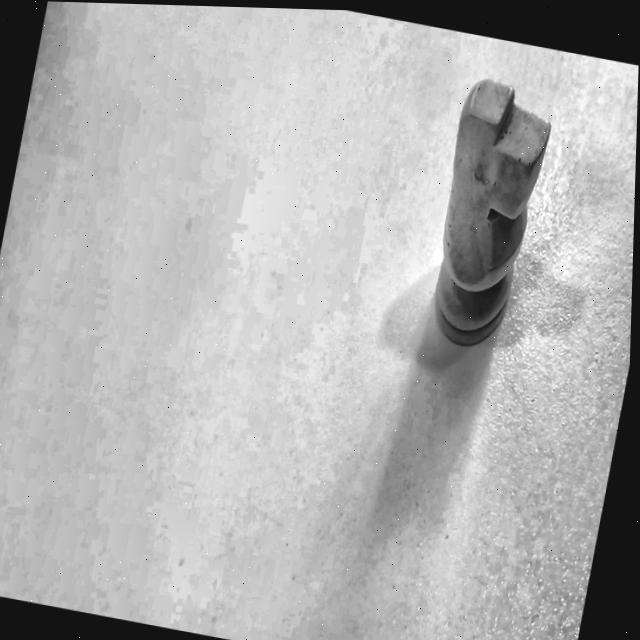white-knight: (383, 60, 595, 373)
